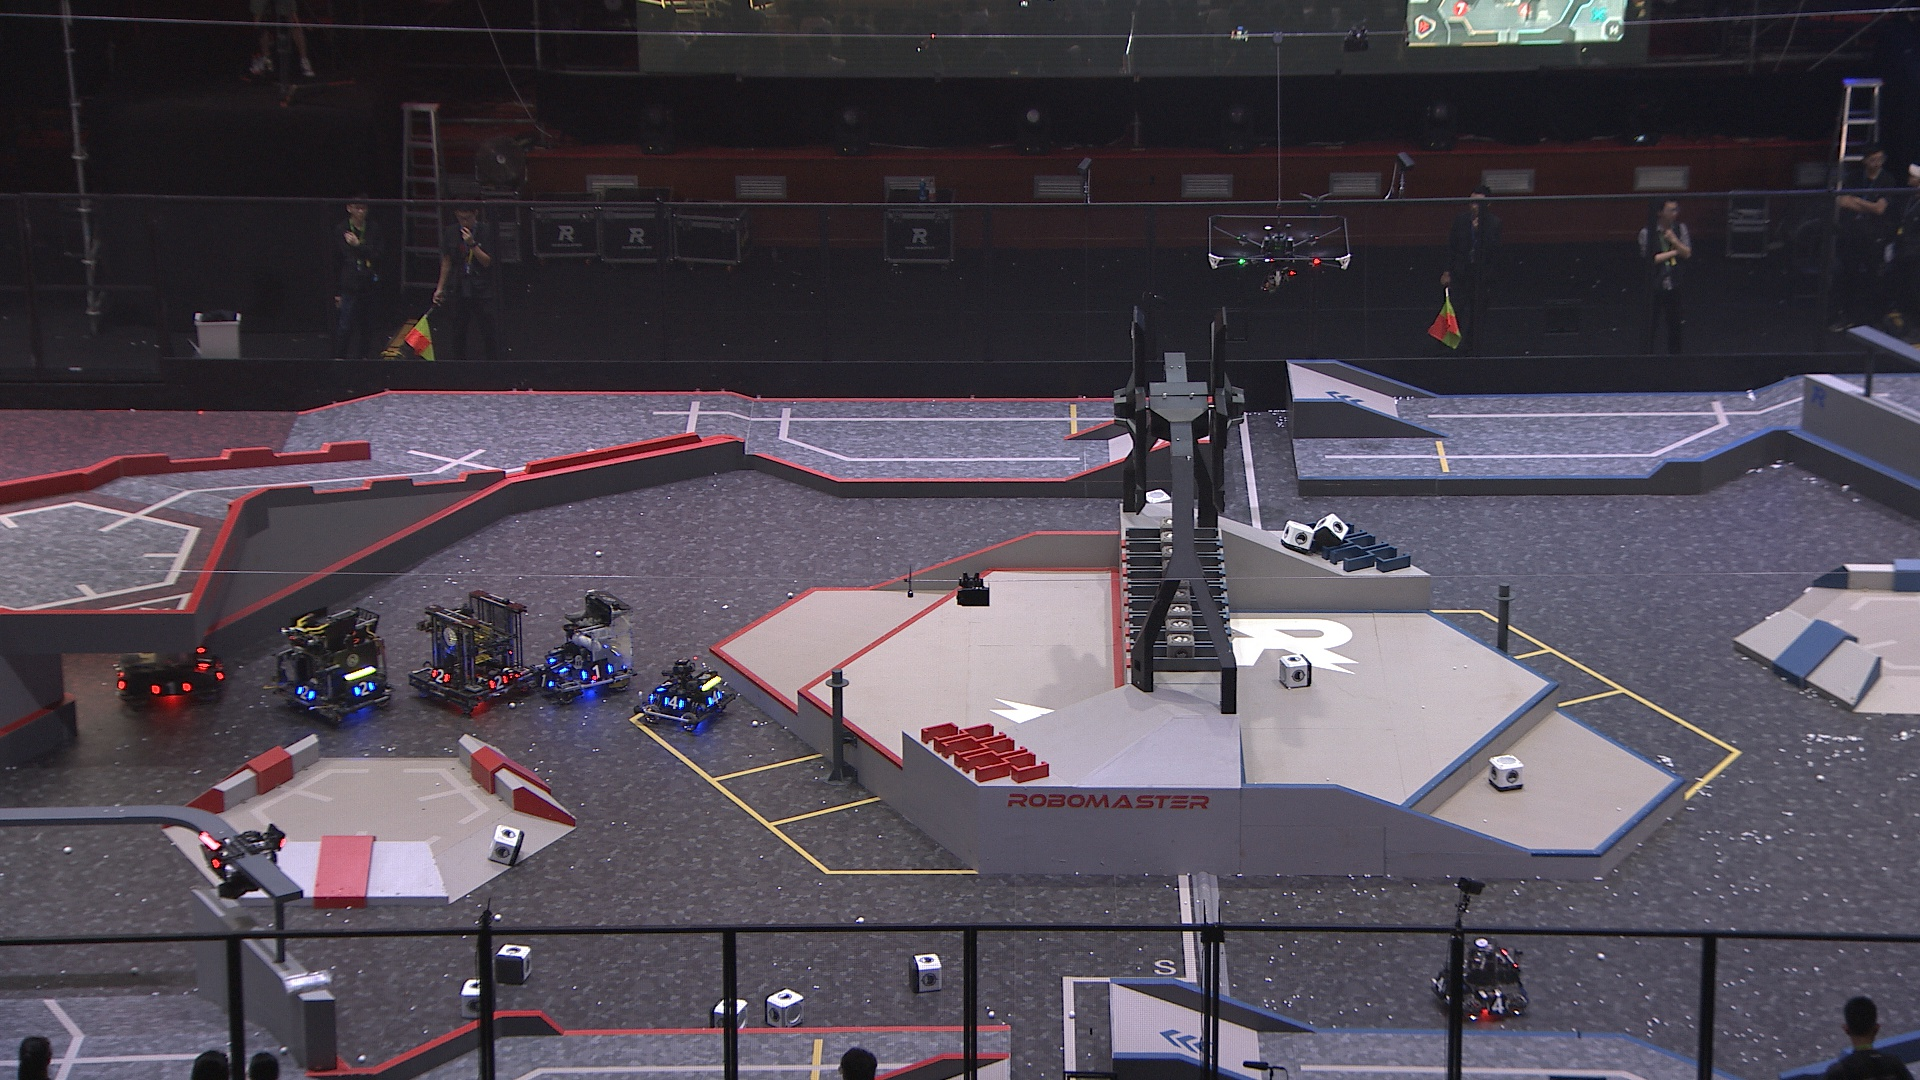armor: (148, 678, 193, 698), (578, 661, 617, 680), (199, 844, 222, 874), (531, 665, 556, 690), (191, 646, 214, 674), (487, 670, 509, 694), (546, 651, 568, 674), (1484, 997, 1513, 1014), (651, 675, 676, 695), (351, 680, 377, 699), (703, 687, 727, 707), (295, 683, 316, 703), (665, 694, 686, 713), (429, 669, 451, 687), (1432, 972, 1447, 994)
car: (405, 585, 541, 716), (272, 599, 396, 723), (111, 589, 229, 709), (527, 591, 640, 709), (636, 651, 744, 732), (1427, 938, 1531, 1021)
watcher: (196, 820, 289, 903)
